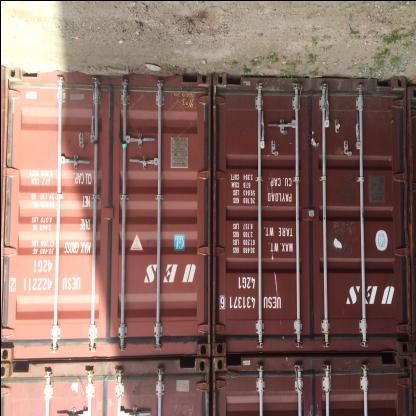Damage: (212, 320, 294, 350), (364, 80, 408, 134), (324, 172, 364, 208), (328, 220, 358, 258), (160, 82, 200, 110), (56, 112, 76, 158), (126, 90, 142, 144)
